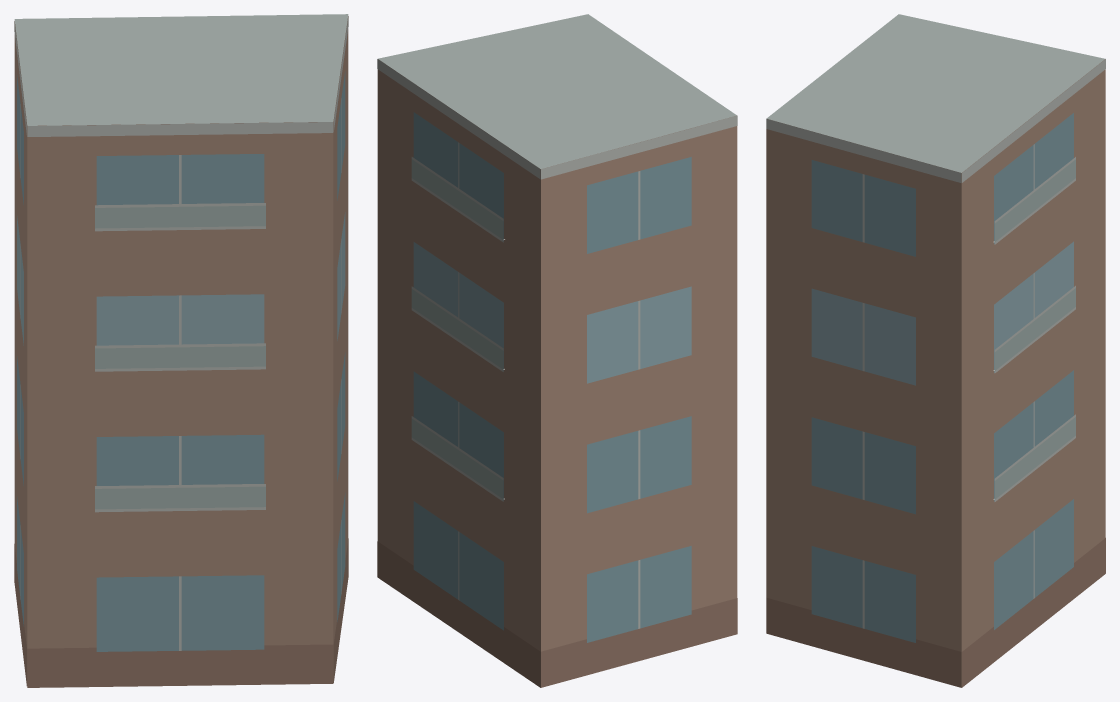
Rendered from survey-upis-32559182.glb.
3 renders of one model, left to right at view 1: azimuth 30°, elevation 25°; view 2: azimuth 150°, elevation 25°; view 3: azimuth 270°, elevation 25°, orthographic. The views are drawn at different scales.
Parts seen in each view (by area): view 1: survey-upis-32559182.tmp; view 2: survey-upis-32559182.tmp; view 3: survey-upis-32559182.tmp.
Part boxes in pixels (x1,y1,x2,y2): survey-upis-32559182.tmp: [14, 14, 348, 687]; survey-upis-32559182.tmp: [377, 14, 737, 687]; survey-upis-32559182.tmp: [766, 14, 1105, 687].
Size of the model in its own units: 8.09 by 12.2 by 7.3.
